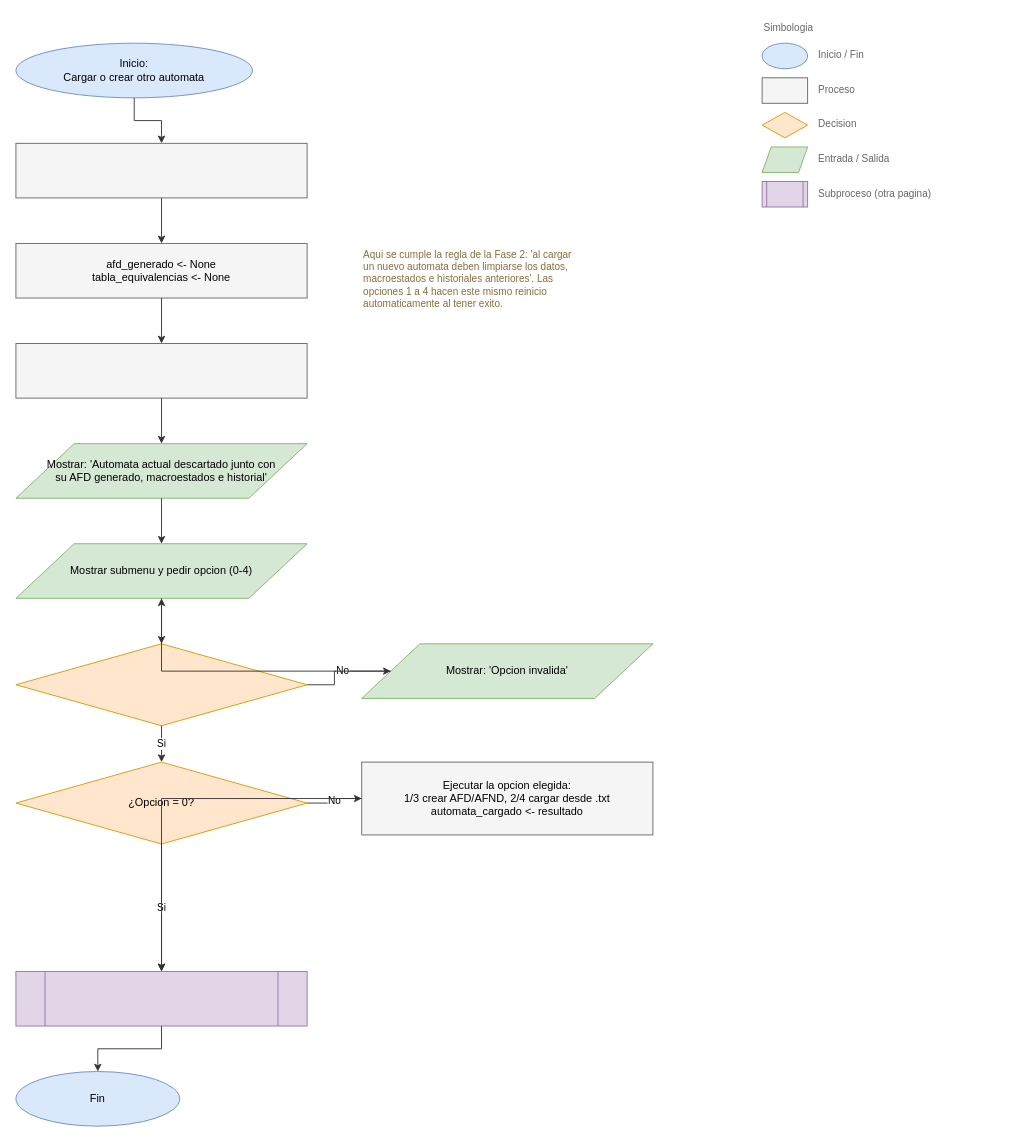
Some shapes in this 1033 by 1142 pixel diagram are drawn without their labels. Each missing label, with the centre of its shape:
automata_cargado <- None: point (161, 170)
historial <- nuevo (vacio): point (161, 370)
Subproceso: Regresar a Flujo Principal: point (161, 998)
¿Opcion valida (0, 1, 2, 3 o 4)?: point (161, 684)
